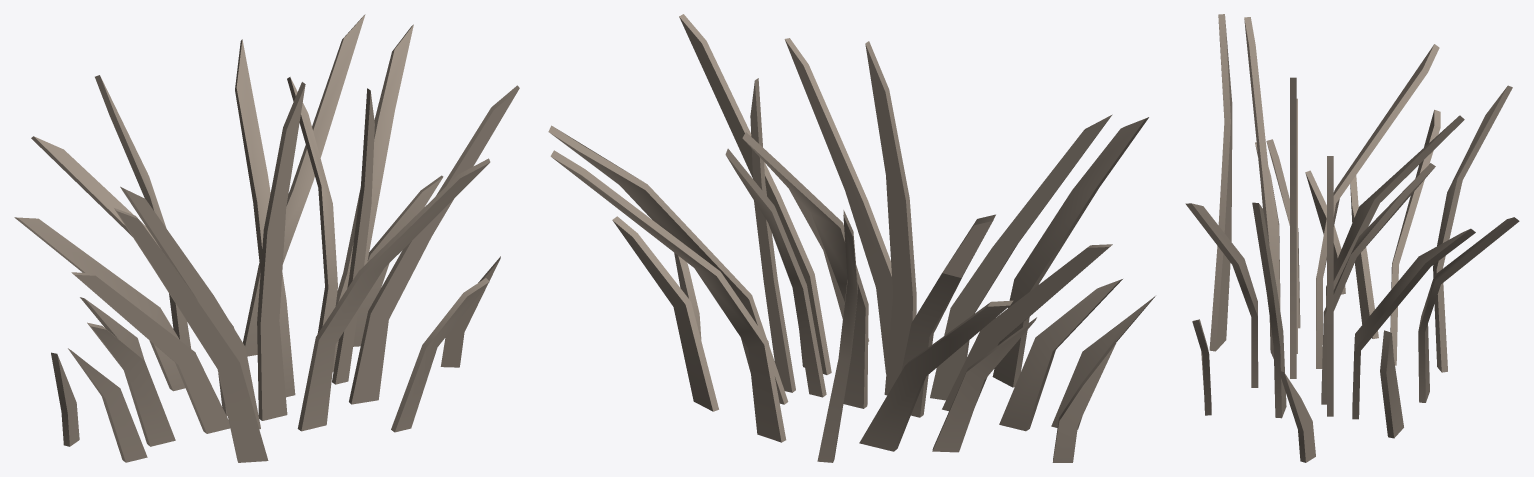
Rendered from Grass_Large_Extruded.glb.
3 views of the same model, side by side, from view 1: azimuth 30°, elevation 25°; view 2: azimuth 150°, elevation 25°; view 3: azimuth 270°, elevation 25° (orthographic). The views are drawn at different scales.
Visible parts, largest first — view 1: Grass; view 2: Grass; view 3: Grass.
Boxes of the visible parts, x1=… form: Grass: x1=14, y1=14, x2=519, y2=462; Grass: x1=548, y1=14, x2=1155, y2=462; Grass: x1=1185, y1=14, x2=1519, y2=462.
Bounding box in the file's own units: 0.7447 × 0.5089 × 0.4973.
